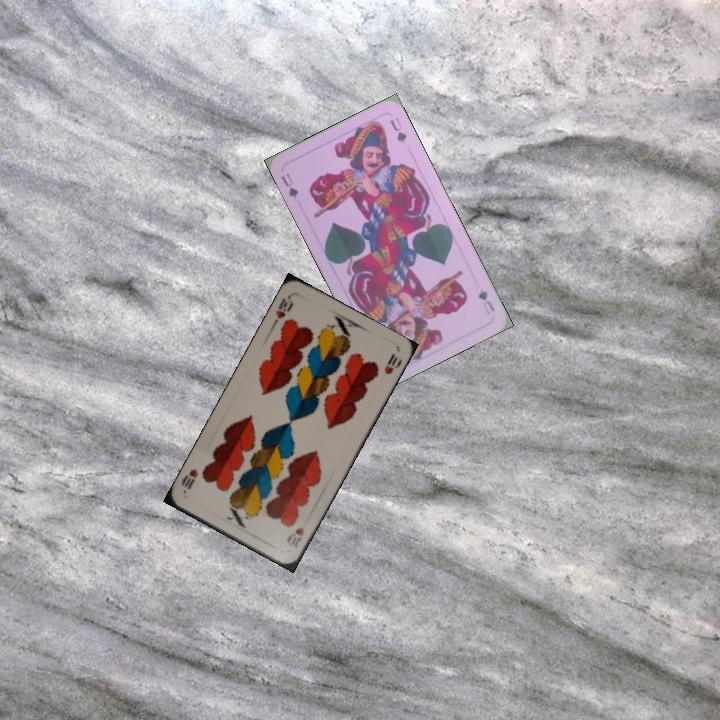GU: (277, 169, 301, 201), (474, 285, 498, 317)
H10: (271, 291, 296, 321), (283, 523, 307, 551)
